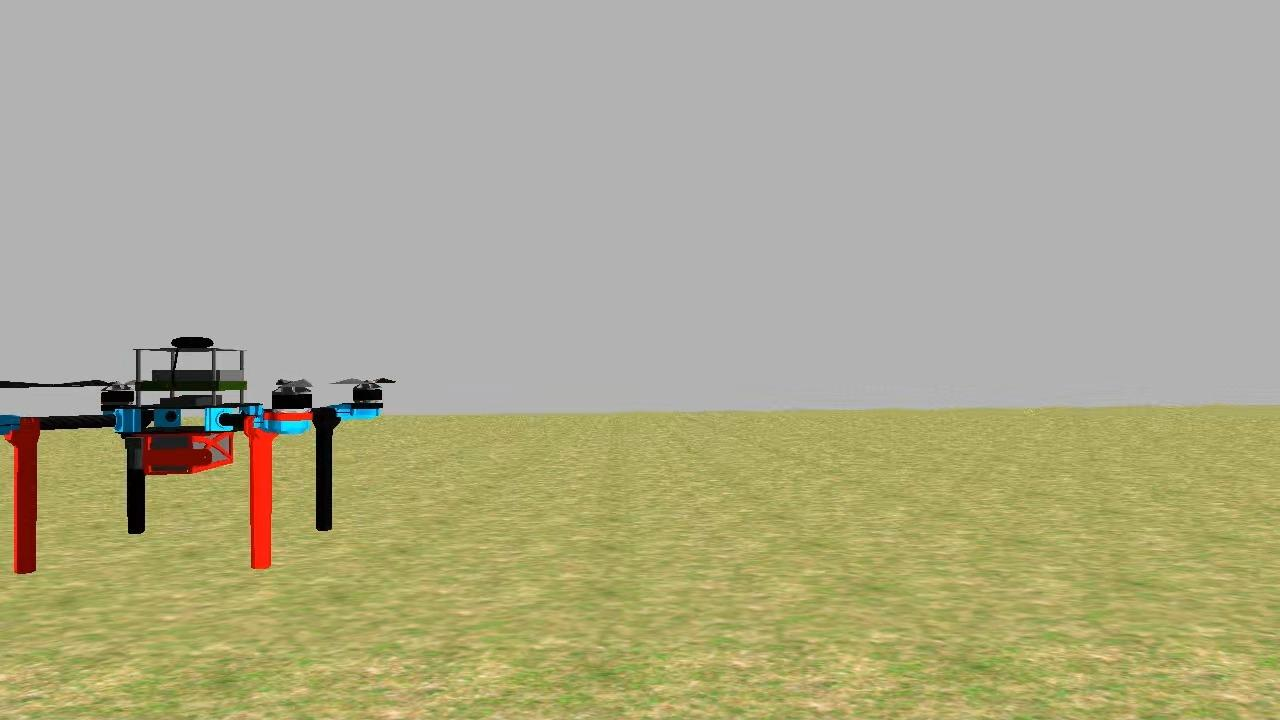UAV: (0, 330, 400, 585)
